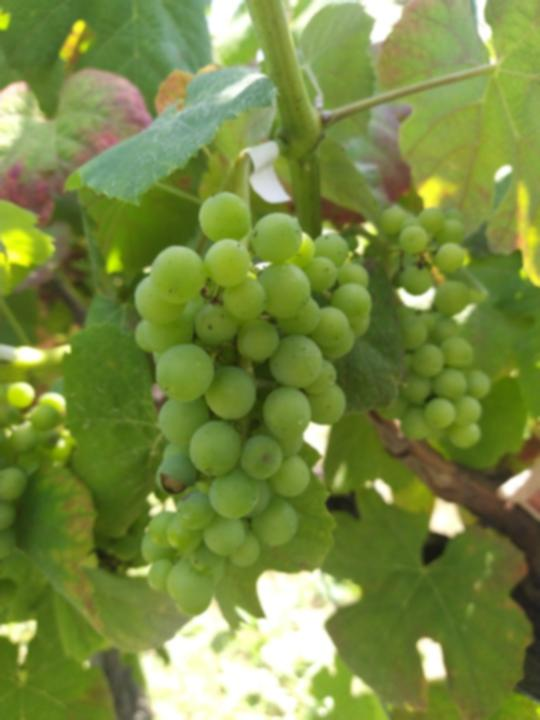grape: (132, 187, 377, 621)
